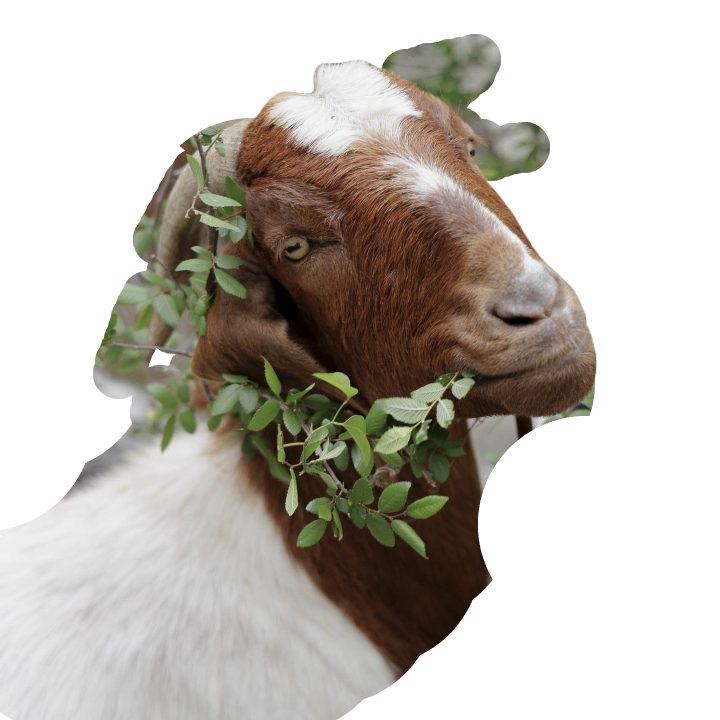Goat: (0, 53, 599, 719)
